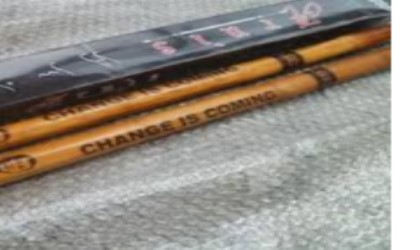baston_e: (6, 47, 370, 198), (23, 43, 373, 129)
baston_v: (372, 43, 405, 74), (371, 20, 406, 48)
